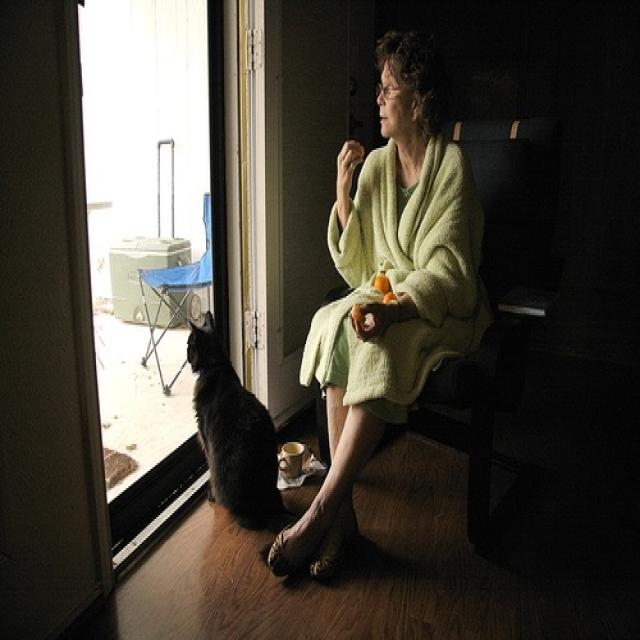cat: (178, 310, 285, 530)
chair: (136, 190, 212, 388)
